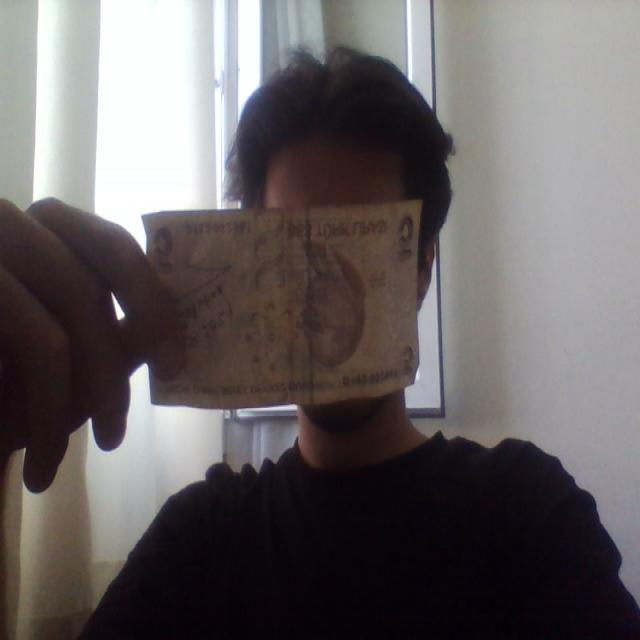5-TL: (135, 199, 424, 412)
